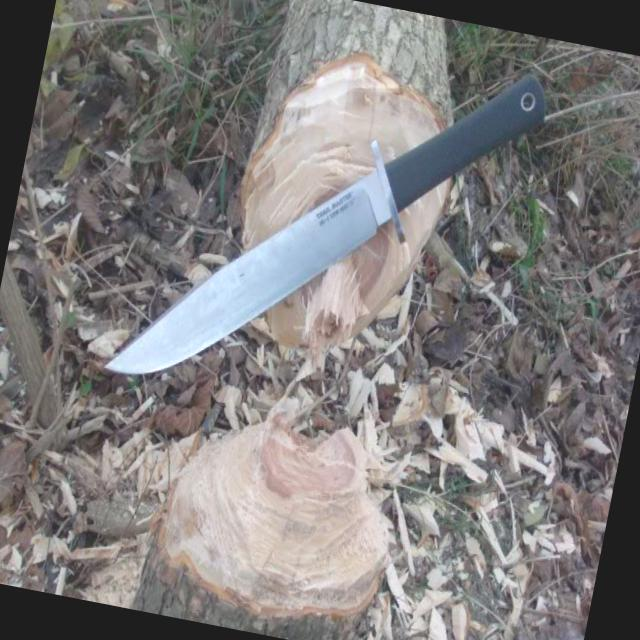knife: (98, 112, 408, 424)
